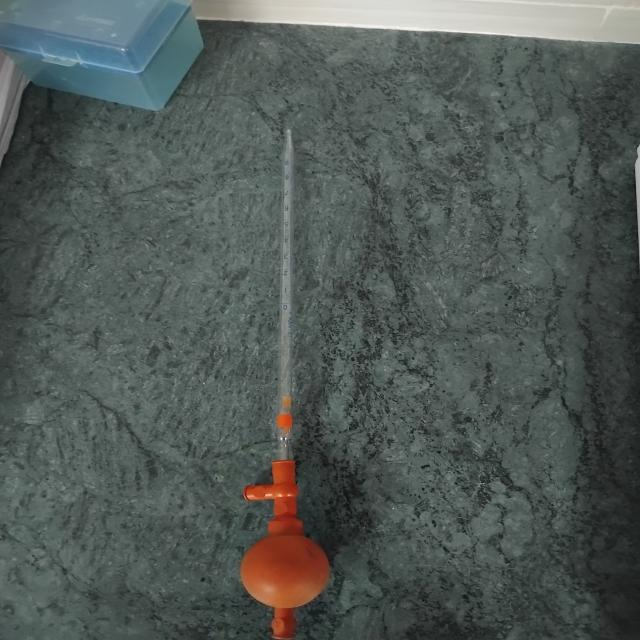Volumetric_Pipet: (217, 94, 380, 640)
